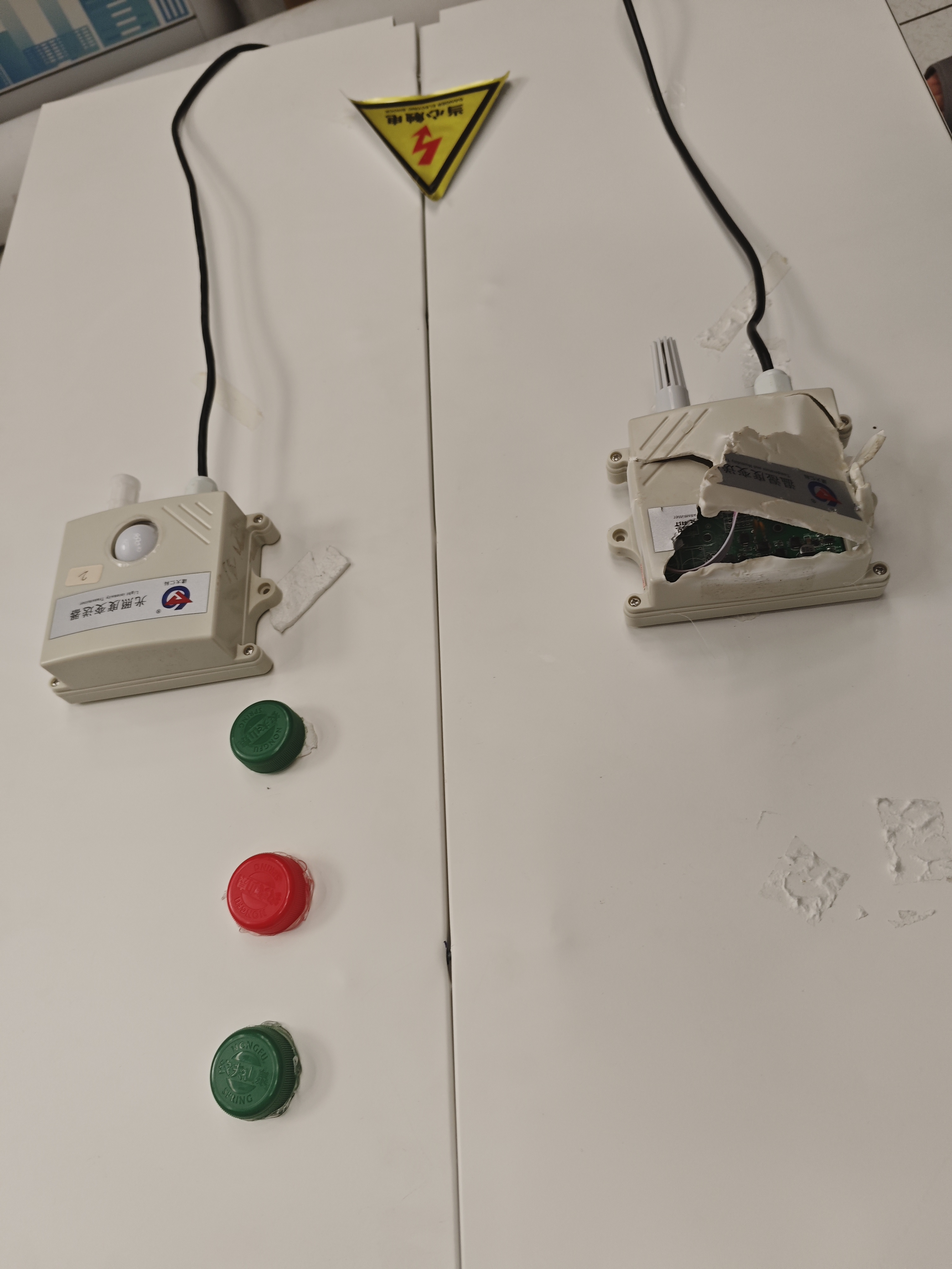red_warning: (205, 829, 359, 960)
sensor_damage: (577, 285, 917, 667)
